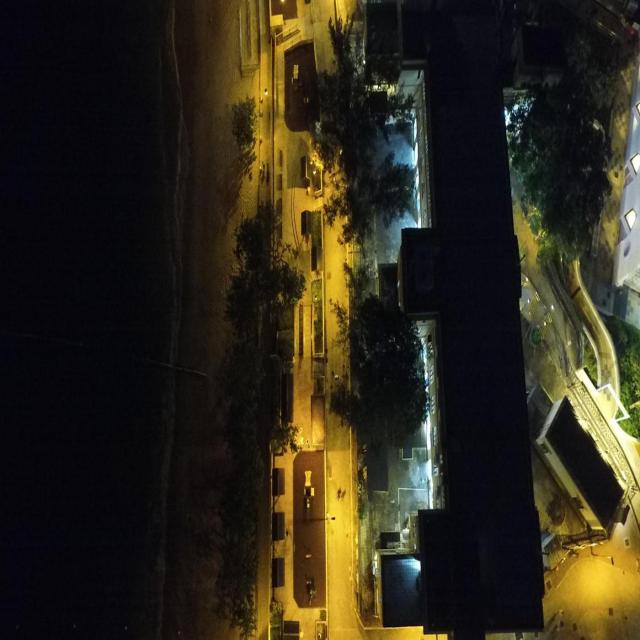tree: (212, 198, 306, 638)
